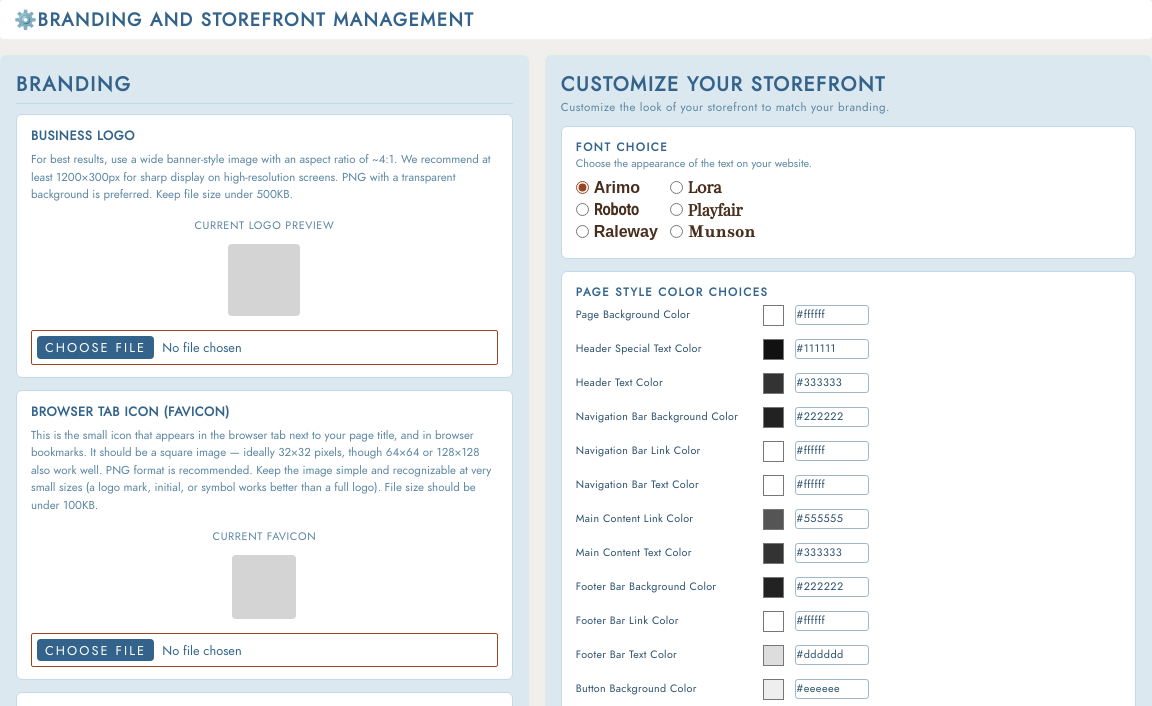
Test: AdminStorefrontSettings › resets invalid hex input on blur
Expected: the text "Page Style Color Choices" is shown, x1=576 y1=284 x2=768 y2=300
Step 1. Replace the text in the field with placeholder "#000000" next to "Page Background Color" with "bad" → {"x": 832, "y": 315}, box x1=795 y1=305 x2=869 y2=325
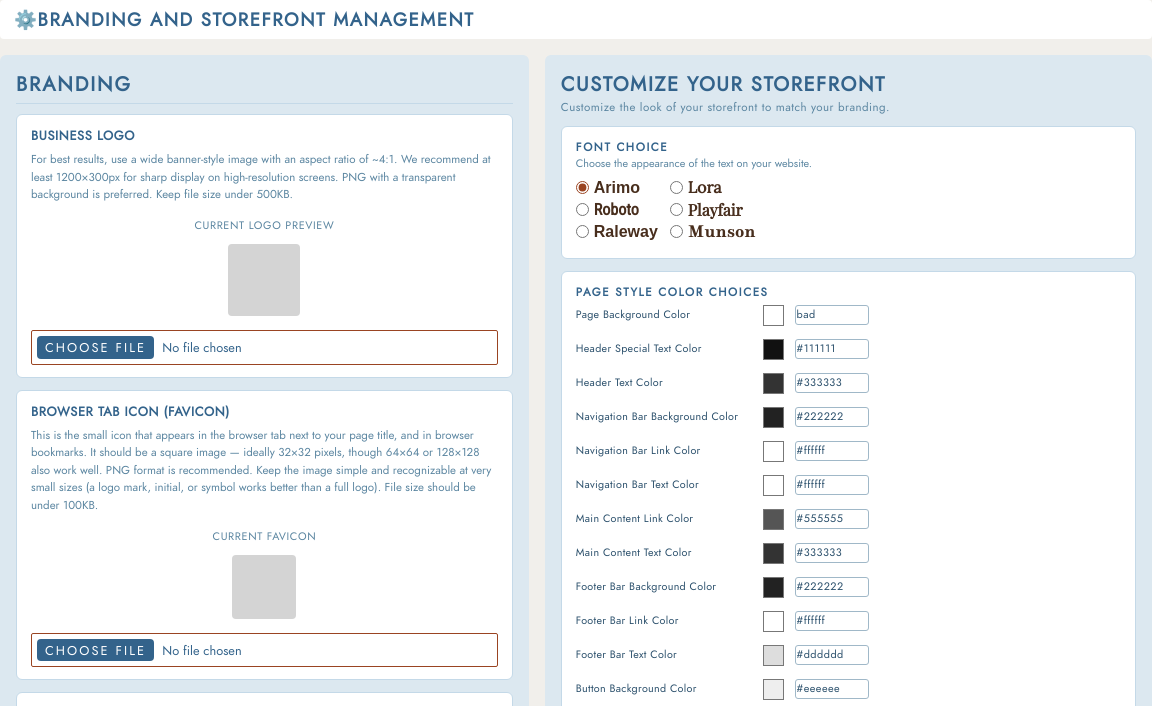
Step 2. Leave the field with placeholder "#000000" next to "Page Background Color", box x1=795 y1=305 x2=869 y2=325
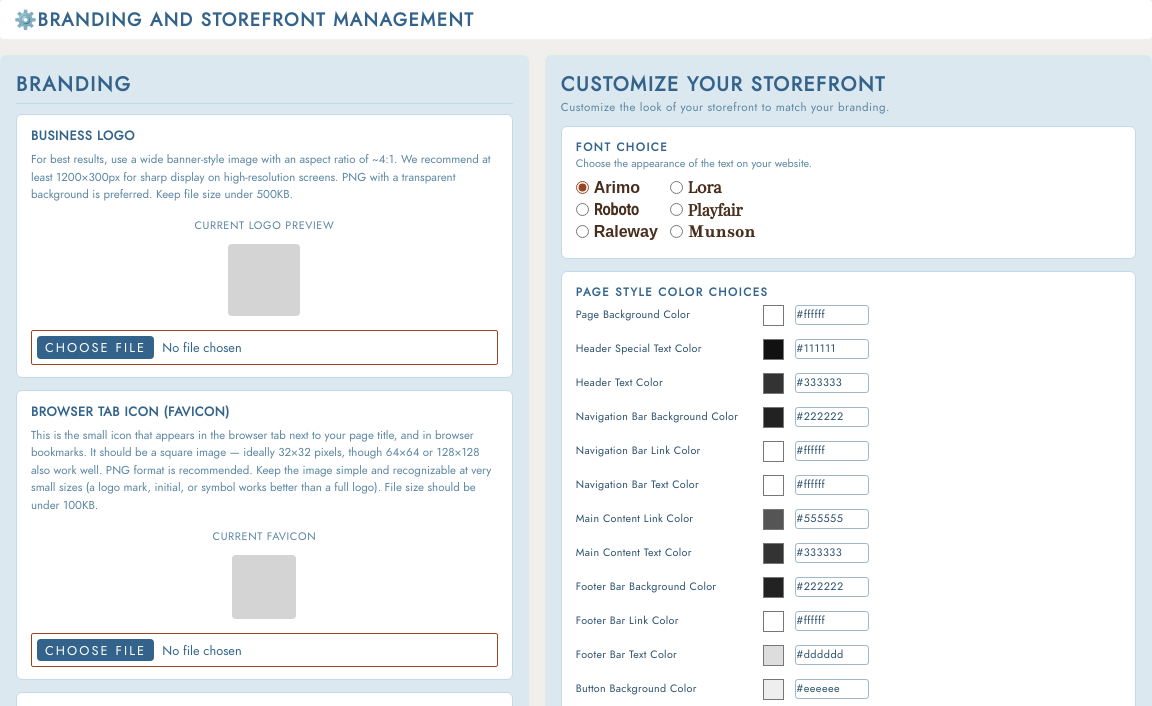
Result: the field with placeholder "#000000" next to "Page Background Color" holds "#ffffff" at x1=795 y1=305 x2=869 y2=325
